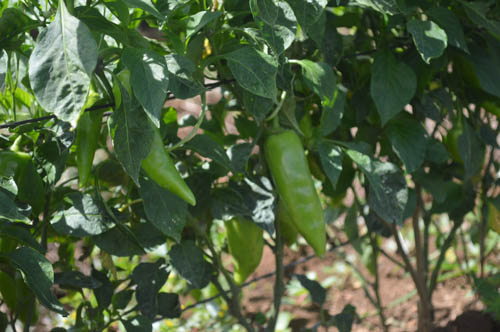ChiliPepper: (269, 131, 332, 253), (137, 133, 191, 209), (74, 95, 108, 185), (222, 220, 266, 283)
